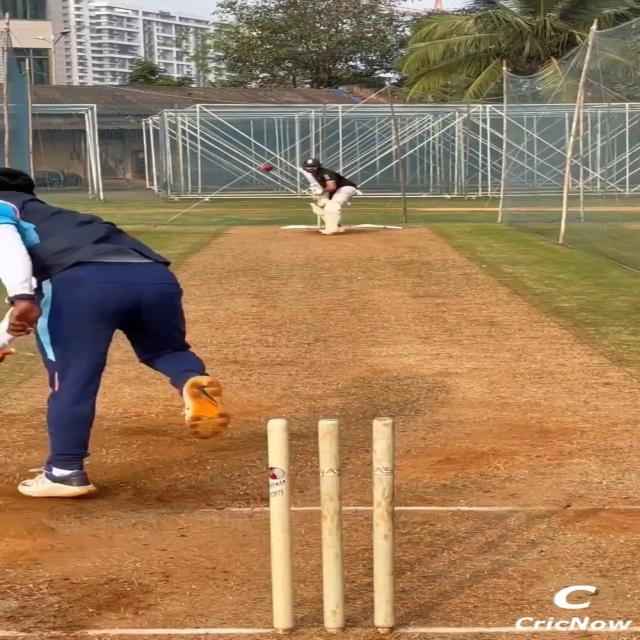ball: (260, 164, 274, 172)
stump: (264, 416, 397, 636)
